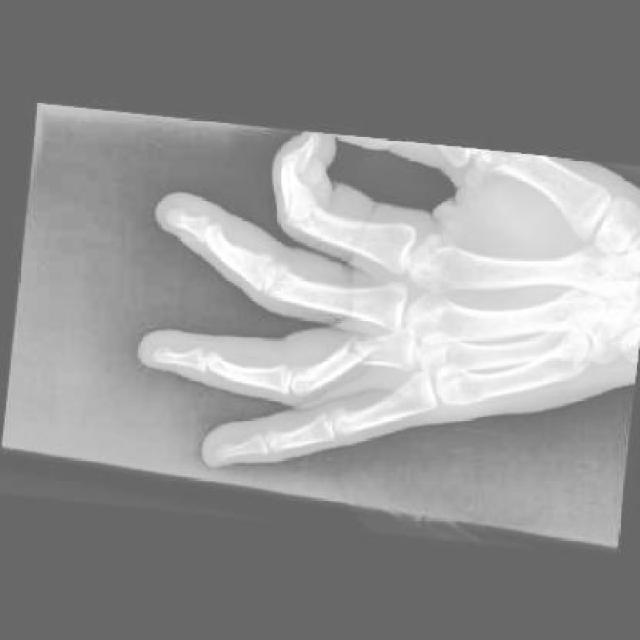Fracture: (342, 329, 382, 363)
